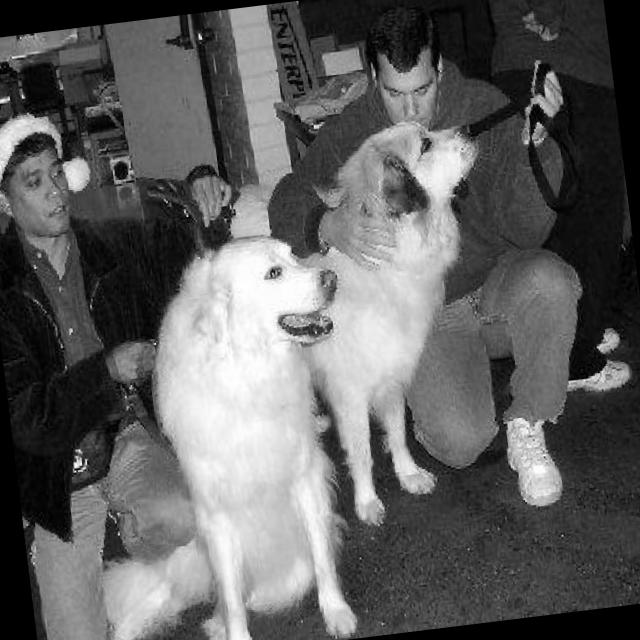sitting: (121, 222, 384, 640)
